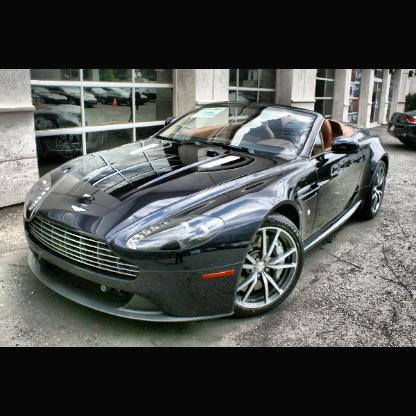Aston Martin V8 Vantage Convertible 2012: (24, 101, 390, 328)
